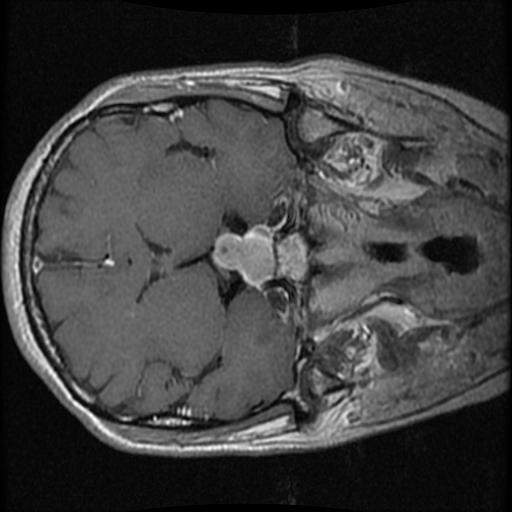pituitary tumour: (211, 225, 277, 287)
